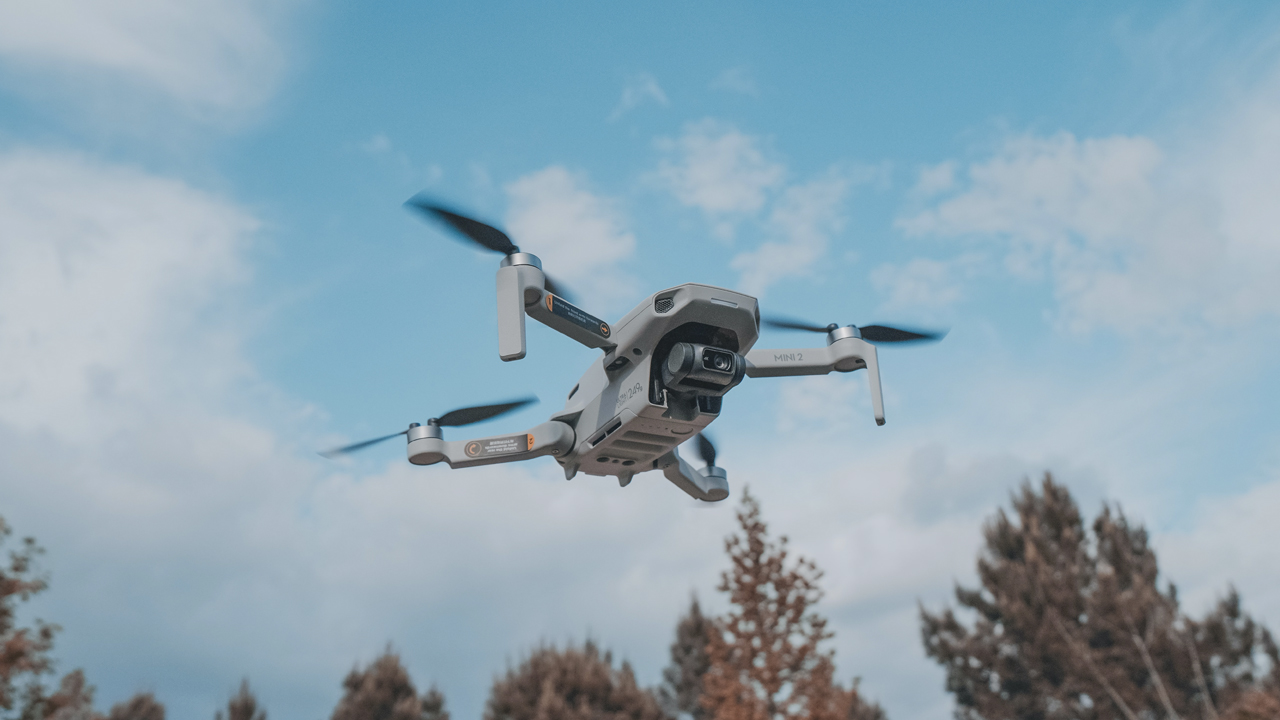drone: (310, 195, 943, 506)
